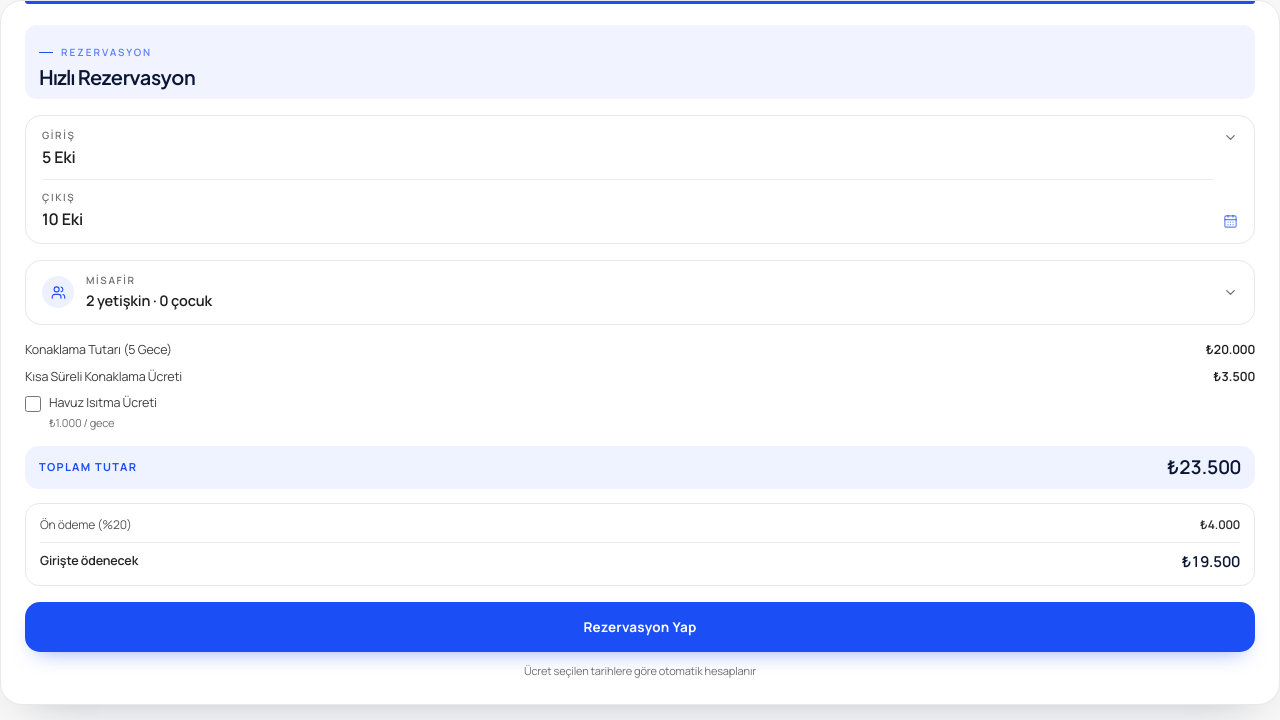
BookingSidebar — havuz ısıtma UI (5. adım) › 4) checkbox işaretlenince seçim true olur ve çalışma toplamı görünür
The width and height of the screenshot is (1280, 720).
Expected: the text "₺5.000" is not shown
Step 1. Click the checkbox labelled "Havuz Isıtma Ücreti" → (33, 404), box [25, 396, 41, 412]
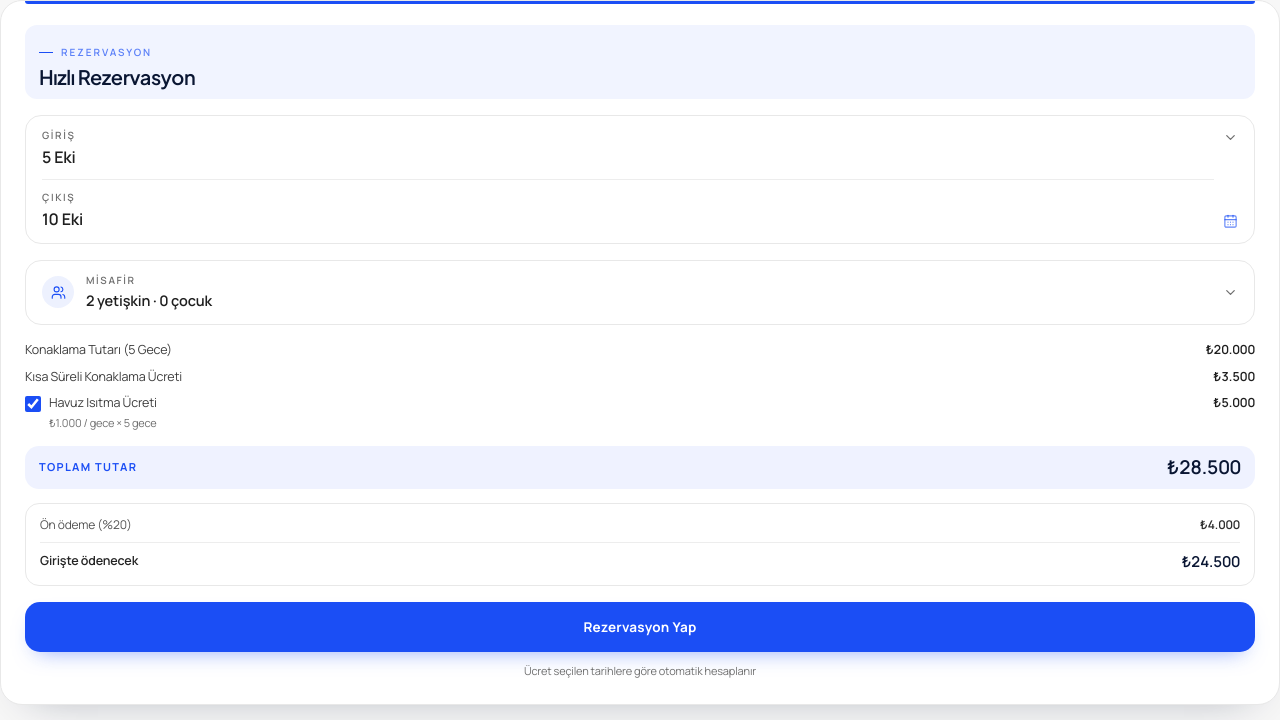
Expected: the checkbox labelled "Havuz Isıtma Ücreti ₺5.000" is checked, [25, 396, 41, 412]
Expected: the text "₺5.000" is shown, [1213, 394, 1255, 413]
Expected: the text "₺1.000 / gece × 5 gece" is shown, [49, 415, 156, 430]
